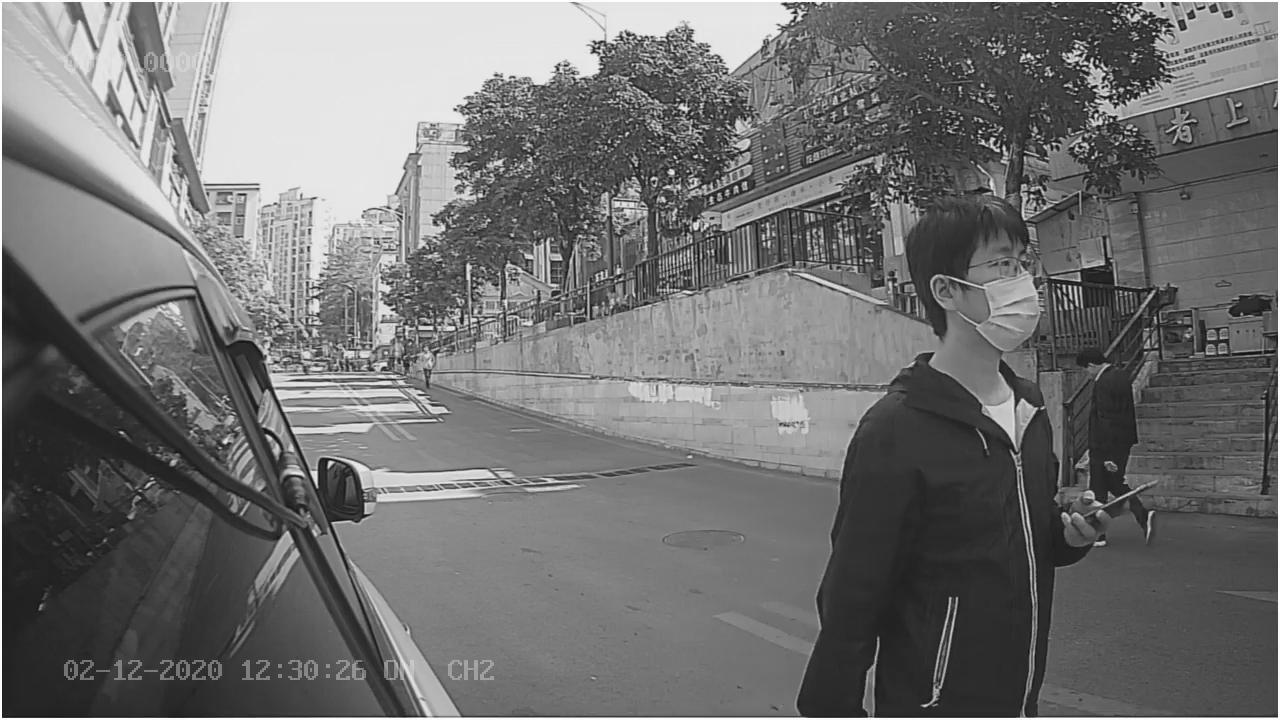person: (818, 185, 1115, 608)
